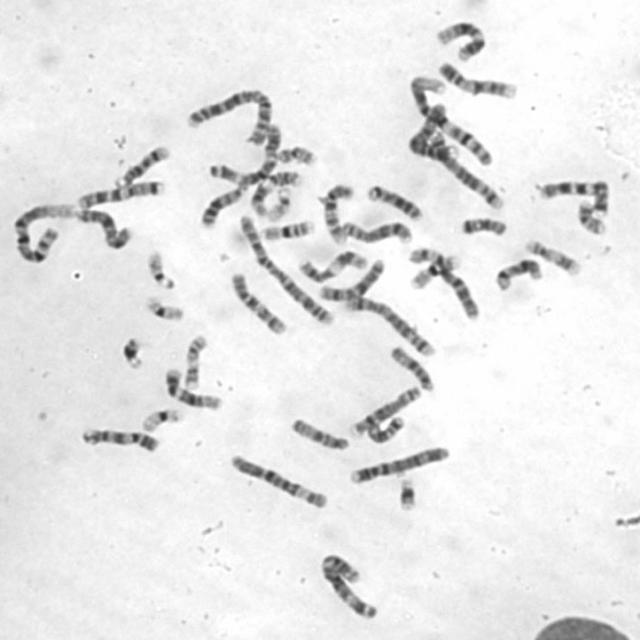A1: (405, 71, 495, 168), (10, 199, 75, 264)
A2: (235, 210, 335, 327), (182, 85, 274, 146)
A3: (204, 118, 284, 186), (315, 550, 379, 622)
B4: (345, 442, 452, 486), (403, 104, 467, 160)
B5: (424, 130, 505, 212), (342, 292, 438, 358)
C10: (226, 269, 289, 337), (318, 181, 357, 246)
C11: (247, 167, 303, 219), (294, 246, 368, 283)
C12: (162, 365, 224, 412), (432, 18, 488, 61)
C6: (226, 450, 330, 511), (404, 242, 482, 322)
C7: (536, 174, 612, 218), (72, 176, 166, 211)
C8: (346, 382, 424, 440), (338, 216, 414, 246)
C9: (434, 58, 518, 100), (78, 424, 160, 454)
D13: (196, 177, 250, 228), (362, 181, 423, 221)
D14: (112, 142, 171, 187), (493, 256, 542, 292)
D15: (387, 343, 436, 393), (288, 414, 351, 452)
E16: (407, 250, 460, 291), (257, 215, 317, 242)
E17: (521, 236, 583, 278), (180, 331, 209, 391)
E18: (363, 412, 406, 445), (456, 214, 508, 238)
F19: (137, 404, 185, 434), (143, 292, 186, 324)
F20: (574, 197, 608, 236), (274, 143, 317, 167)
G21: (118, 333, 145, 372), (396, 472, 418, 512)
G22: (144, 248, 177, 290), (264, 182, 294, 223)
X: (316, 255, 386, 302), (74, 205, 133, 251)
